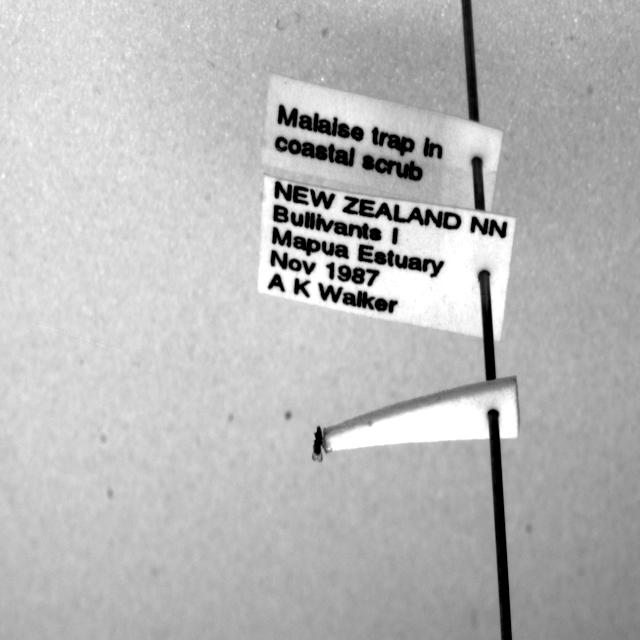typed_label: (258, 174, 516, 339), (261, 73, 502, 210)
